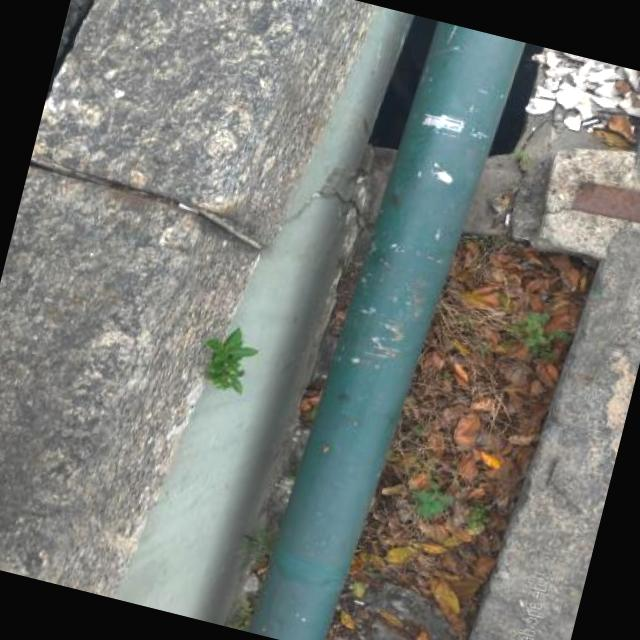gas: (246, 10, 527, 640)
